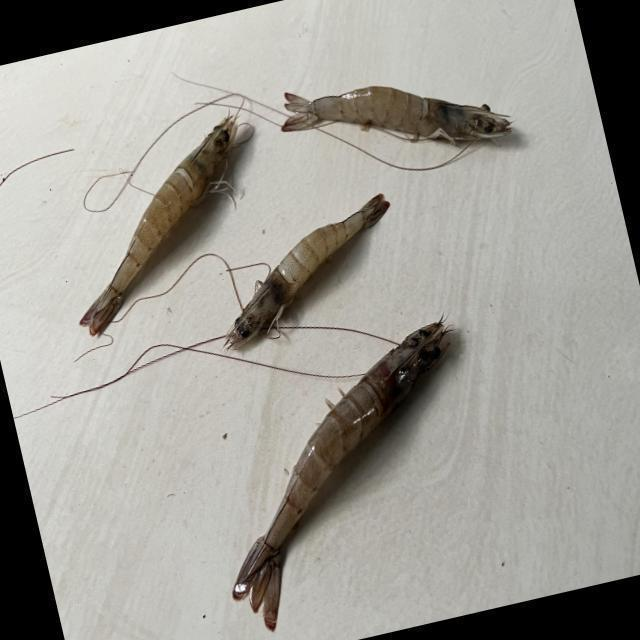shrimp: (233, 319, 452, 631), (79, 115, 238, 335), (225, 193, 390, 349), (282, 85, 512, 143)
